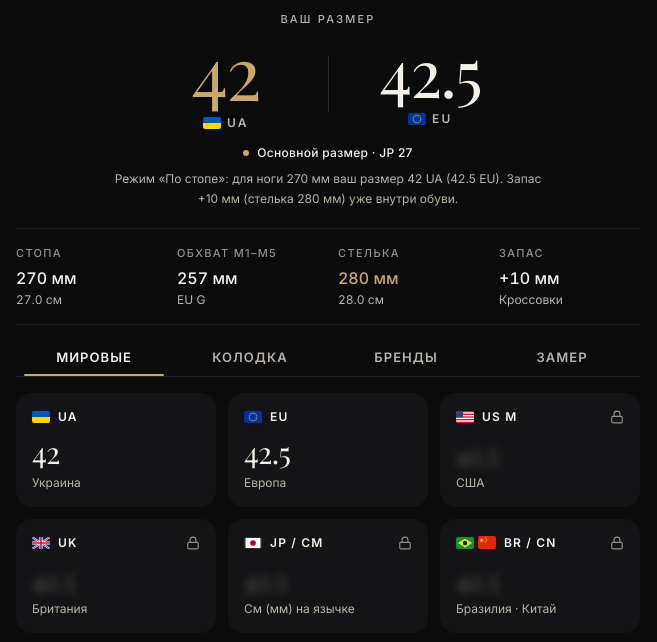
it: SizeCalcPage — интеграционные тесты › переключает вкладки и применяет запас для стиля «Зима / Мех»
(page scrolled)
Click the button "Колодка".
click(250, 360)  # box [172, 345, 328, 376]
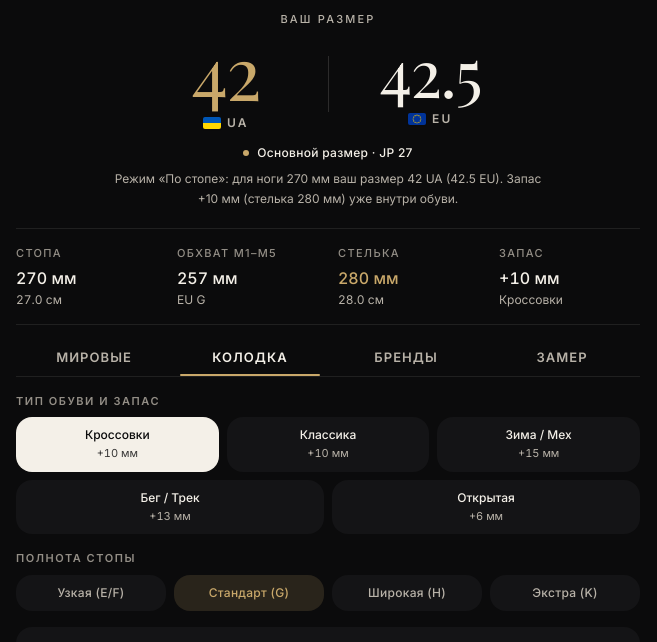
Click the button "Зима / Мех +15 мм".
click(539, 445)  # box [437, 417, 640, 472]
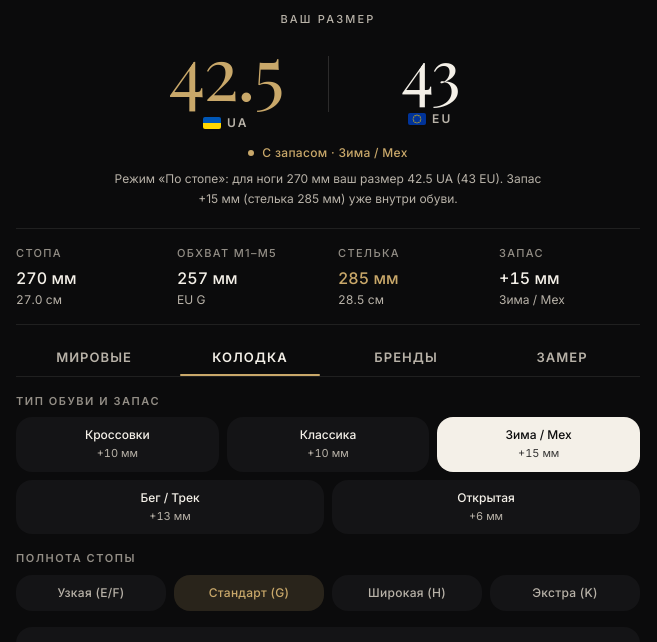
Expected: the text "43" is shown, [401, 41, 459, 101]
Expected: the text "С запасом · Зима / Мех" is shown, [262, 145, 408, 161]
Click the button "Бренды".
click(406, 360)  # box [328, 345, 484, 376]
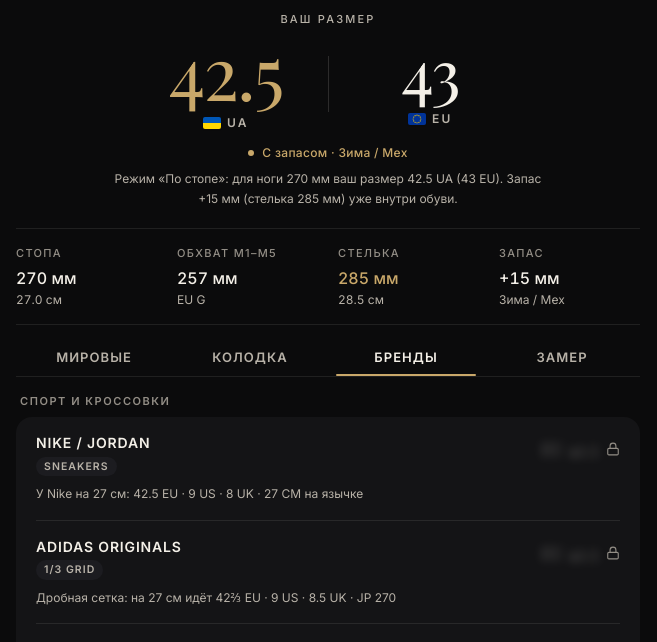
Expected: the text "Nike / Jordan" is shown, [36, 433, 150, 453]
Click the button "Замер".
click(562, 360)  # box [484, 345, 640, 376]
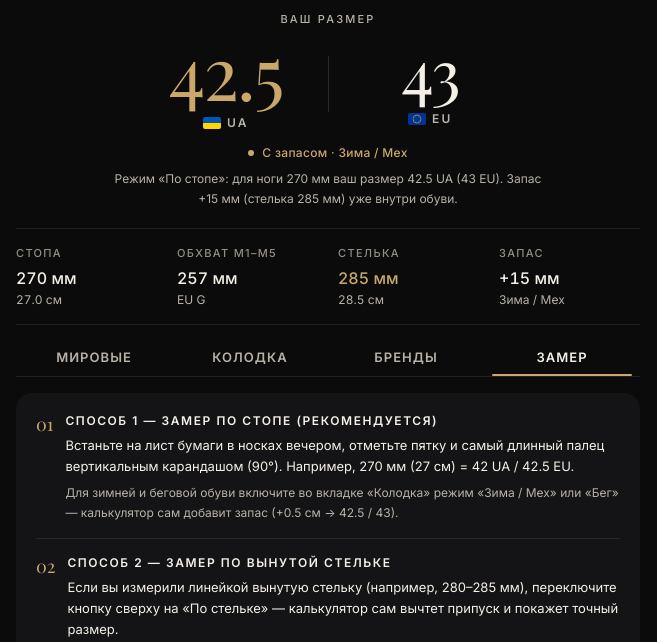
Expected: the heading "Способ 1 — Замер по стопе (рекомендуется)" is shown, [66, 413, 438, 428]
